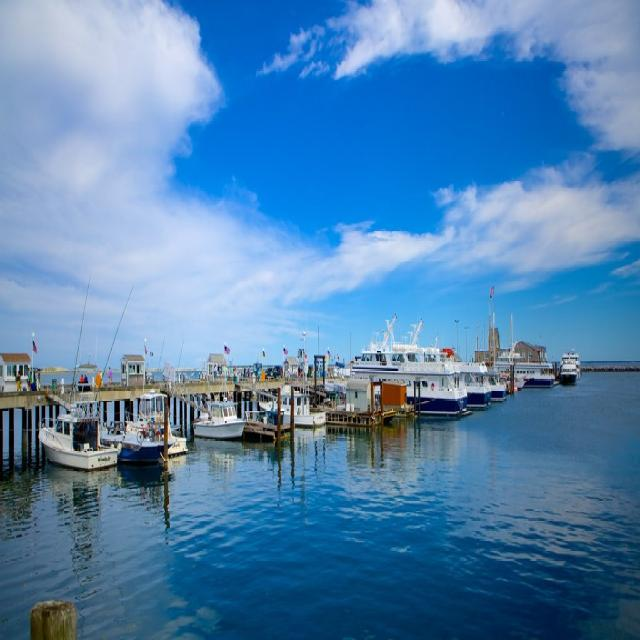houseboat: (28, 398, 114, 474)
passenger ship: (346, 324, 468, 418)
